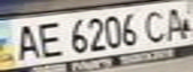0: (103, 11, 124, 50)
2: (84, 14, 109, 52)
6: (118, 10, 145, 47), (66, 15, 90, 55)
A: (6, 20, 42, 62), (160, 3, 193, 41)
C: (139, 7, 172, 44)
E: (33, 18, 66, 58)
